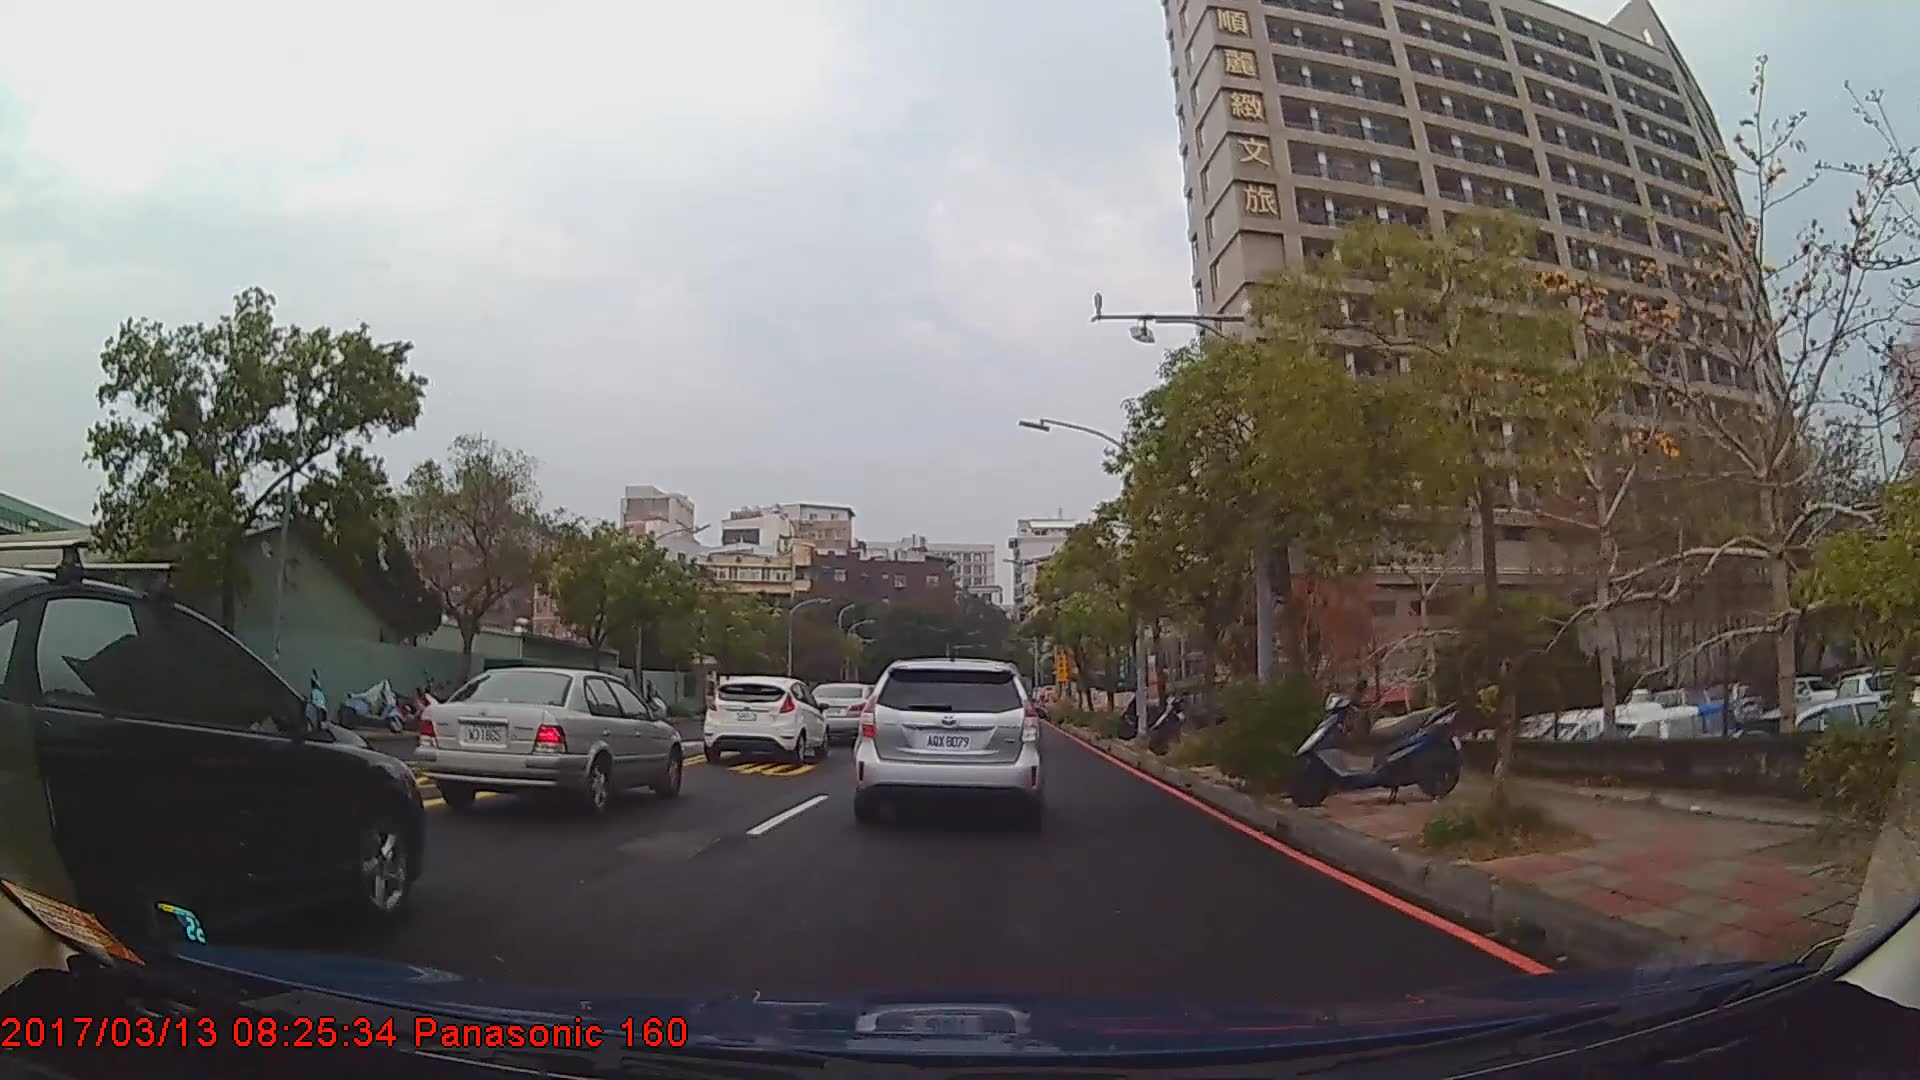vehicle: (0, 566, 425, 964), (415, 666, 682, 816), (851, 659, 1040, 825), (702, 674, 829, 764), (806, 682, 880, 744)
